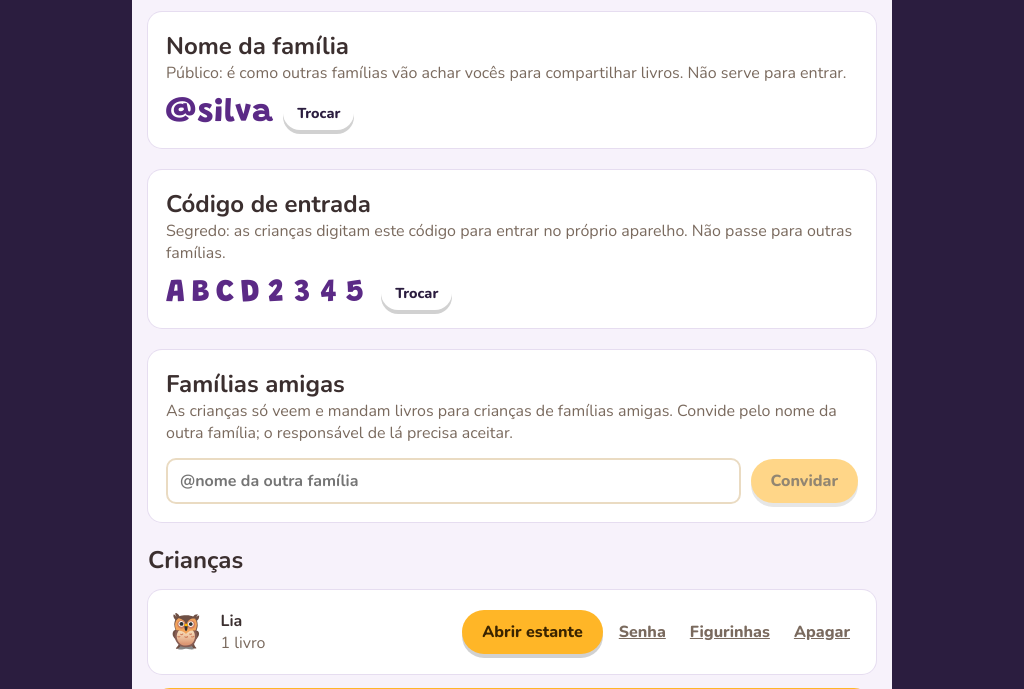
Test: figurinhas e pedidos de capítulo › o responsável vê as figurinhas da criança e desliga
Click the button "Figurinhas" at x=730, y=632, box left=682, top=610, right=778, bottom=654
(page scrolled)
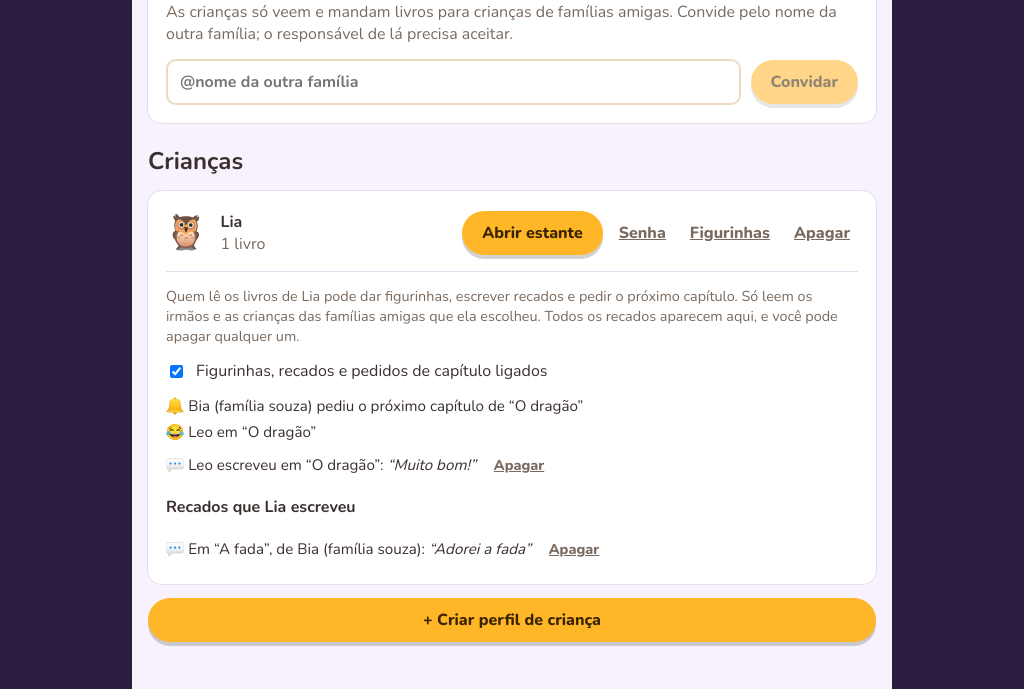
expect the list item "Bia (família souza) pediu o próximo capítulo de “O dragão”" is shown: met, box left=166, top=396, right=583, bottom=416
expect the list item "Leo em “O dragão”" is shown: met, box left=166, top=422, right=316, bottom=442
Click the checkbox labelled "Figurinhas, recados e pedidos de capítulo ligados" at x=176, y=371, box left=170, top=364, right=183, bottom=378
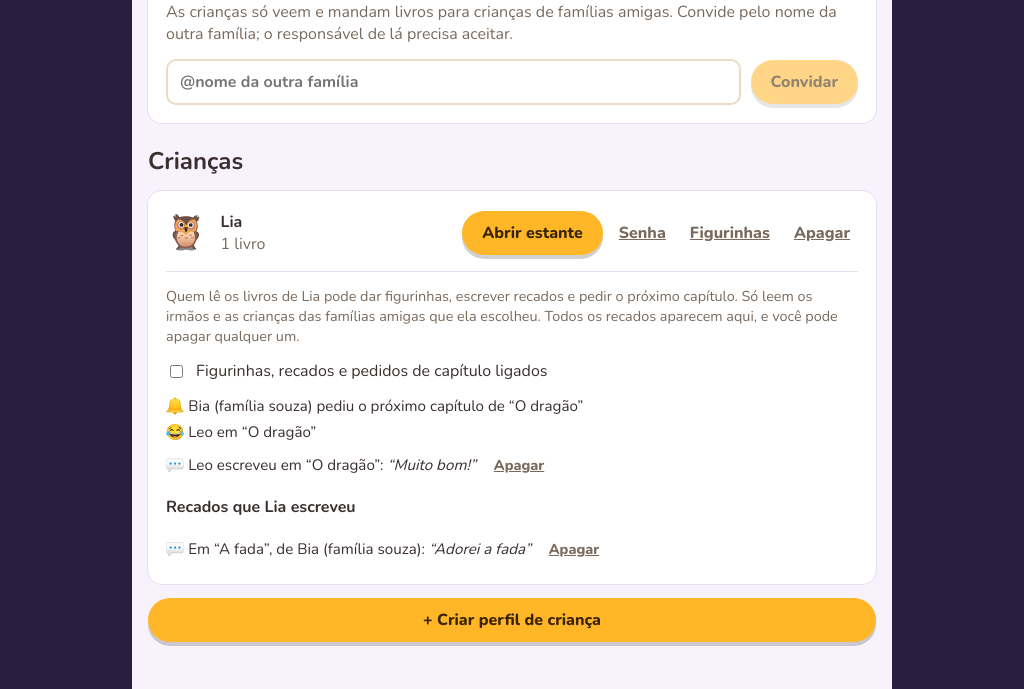
expect the checkbox labelled "Figurinhas, recados e pedidos de capítulo ligados" is not checked: met, box left=170, top=364, right=183, bottom=378
expect the text "Muito bom!" is shown: met, box left=388, top=455, right=476, bottom=475
expect the text "Adorei a fada" is shown: met, box left=429, top=539, right=531, bottom=559
Click the button "Apagar" next to "Muito bom!" at x=519, y=465, box left=480, top=448, right=558, bottom=482
(page scrolled)
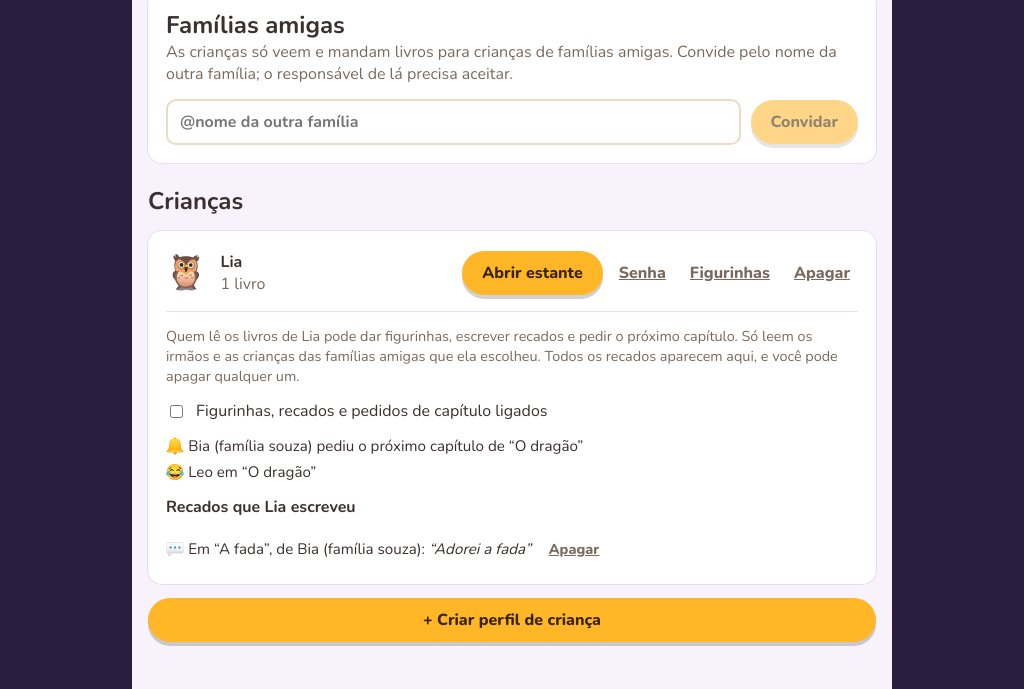
expect the text "Muito bom!" is gone: met
